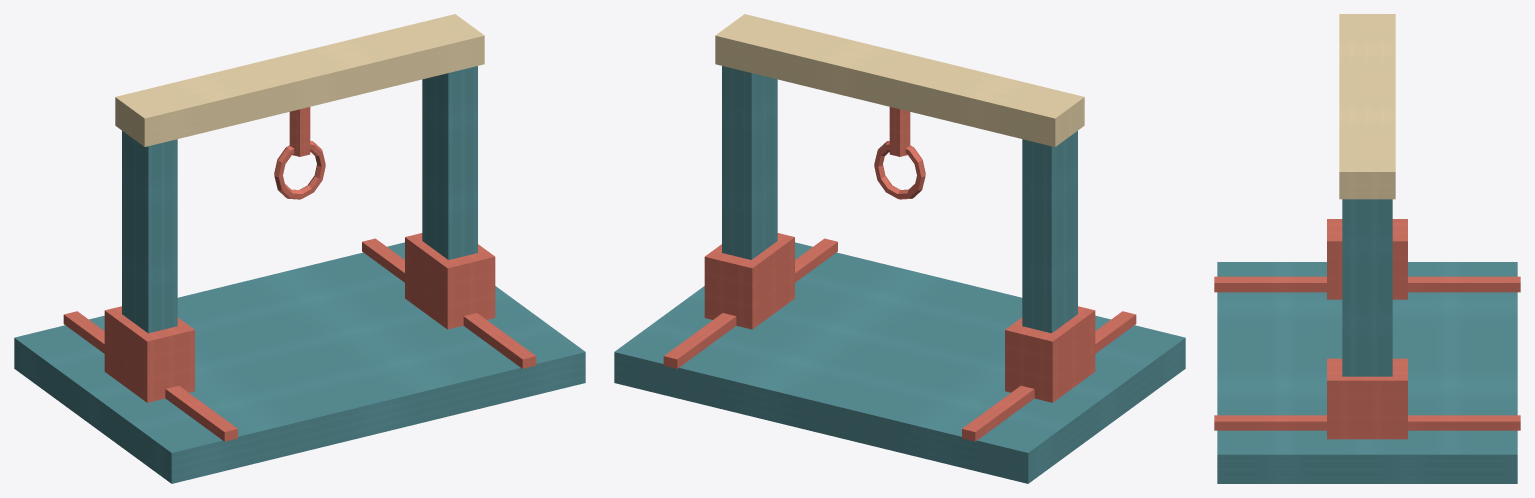
File: atlas100-s072-a02.lod2.glb
The picture shows the model from 3 angles, left to right: view 1: azimuth 30°, elevation 25°; view 2: azimuth 150°, elevation 25°; view 3: azimuth 270°, elevation 25°; orthographic projection. The views are drawn at different scales.
Parts seen in each view (by area): view 1: atlas100-s072-a02:part-000, atlas100-s072-a02:part-007, atlas100-s072-a02:part-003, atlas100-s072-a02:part-005, atlas100-s072-a02:part-004, atlas100-s072-a02:part-006, atlas100-s072-a02:part-002, atlas100-s072-a02:part-001, atlas100-s072-a02:part-009, atlas100-s072-a02:part-008; view 2: atlas100-s072-a02:part-000, atlas100-s072-a02:part-007, atlas100-s072-a02:part-003, atlas100-s072-a02:part-005, atlas100-s072-a02:part-004, atlas100-s072-a02:part-006, atlas100-s072-a02:part-002, atlas100-s072-a02:part-001, atlas100-s072-a02:part-009, atlas100-s072-a02:part-008; view 3: atlas100-s072-a02:part-000, atlas100-s072-a02:part-007, atlas100-s072-a02:part-005, atlas100-s072-a02:part-006, atlas100-s072-a02:part-001, atlas100-s072-a02:part-002, atlas100-s072-a02:part-004.
Part boxes in pixels (x1=…): atlas100-s072-a02:part-000: x1=14, y1=242, x2=585, y2=483; atlas100-s072-a02:part-007: x1=115, y1=14, x2=484, y2=146; atlas100-s072-a02:part-003: x1=122, y1=131, x2=177, y2=333; atlas100-s072-a02:part-005: x1=422, y1=66, x2=477, y2=259; atlas100-s072-a02:part-004: x1=104, y1=306, x2=194, y2=402; atlas100-s072-a02:part-006: x1=405, y1=233, x2=495, y2=329; atlas100-s072-a02:part-002: x1=362, y1=238, x2=536, y2=368; atlas100-s072-a02:part-001: x1=63, y1=311, x2=237, y2=441; atlas100-s072-a02:part-009: x1=274, y1=141, x2=325, y2=199; atlas100-s072-a02:part-008: x1=289, y1=107, x2=310, y2=156; atlas100-s072-a02:part-000: x1=614, y1=242, x2=1185, y2=483; atlas100-s072-a02:part-007: x1=715, y1=14, x2=1084, y2=146; atlas100-s072-a02:part-003: x1=1022, y1=131, x2=1077, y2=333; atlas100-s072-a02:part-005: x1=722, y1=66, x2=777, y2=259; atlas100-s072-a02:part-004: x1=1005, y1=306, x2=1095, y2=402; atlas100-s072-a02:part-006: x1=704, y1=233, x2=794, y2=329; atlas100-s072-a02:part-002: x1=663, y1=238, x2=837, y2=368; atlas100-s072-a02:part-001: x1=962, y1=311, x2=1136, y2=441; atlas100-s072-a02:part-009: x1=874, y1=141, x2=925, y2=199; atlas100-s072-a02:part-008: x1=889, y1=107, x2=910, y2=156; atlas100-s072-a02:part-000: x1=1217, y1=262, x2=1517, y2=483; atlas100-s072-a02:part-007: x1=1339, y1=14, x2=1395, y2=199; atlas100-s072-a02:part-005: x1=1342, y1=199, x2=1392, y2=376; atlas100-s072-a02:part-006: x1=1327, y1=358, x2=1407, y2=439; atlas100-s072-a02:part-001: x1=1214, y1=276, x2=1520, y2=292; atlas100-s072-a02:part-002: x1=1214, y1=415, x2=1520, y2=430; atlas100-s072-a02:part-004: x1=1327, y1=219, x2=1407, y2=299.
Bounding box in the file's own units: 3.64 × 2.6 × 2.45.
Materials: 3 (3 with a texture image).
